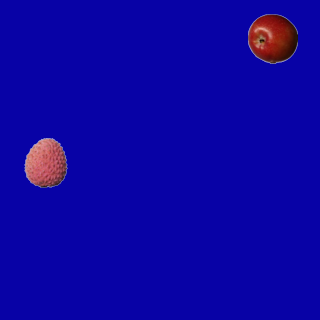Apple Braeburn: (247, 13, 297, 63)
Lychee: (20, 137, 70, 187)
